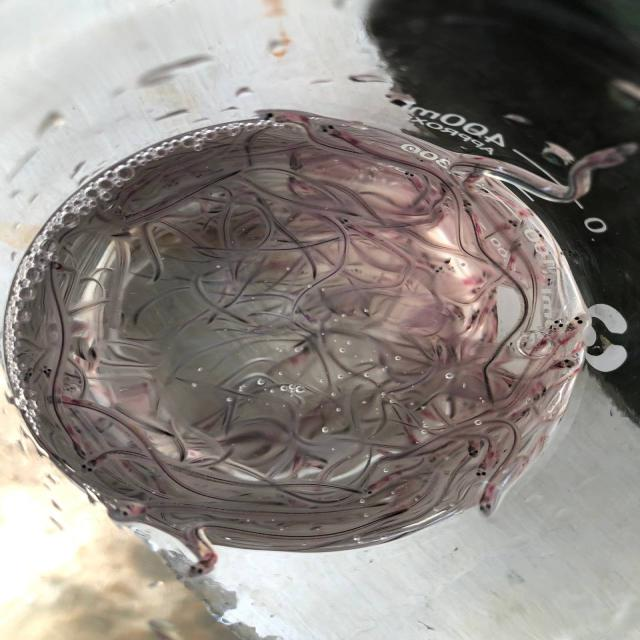glass_eel: (184, 552, 218, 585), (472, 490, 505, 524), (599, 139, 636, 169), (107, 499, 148, 525), (252, 104, 291, 128), (548, 355, 588, 377), (317, 117, 346, 146), (75, 456, 107, 482), (396, 160, 428, 183), (40, 353, 65, 382), (163, 170, 191, 195), (565, 313, 596, 335), (544, 314, 572, 338), (36, 255, 69, 275), (21, 364, 46, 390), (108, 202, 136, 224), (357, 482, 385, 503), (466, 463, 494, 484), (424, 262, 451, 282), (531, 274, 563, 290), (457, 196, 481, 216), (502, 237, 526, 256), (466, 439, 484, 464), (328, 216, 357, 231), (185, 165, 209, 183), (502, 216, 526, 232), (58, 381, 81, 396)
